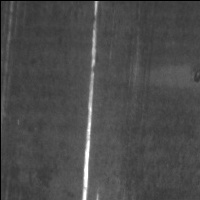scratches: (81, 4, 101, 200)
